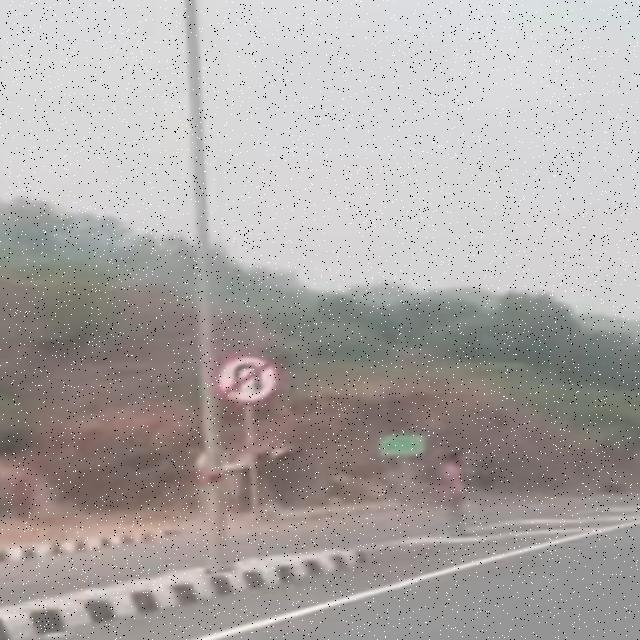no_uturn: (215, 344, 290, 422)
